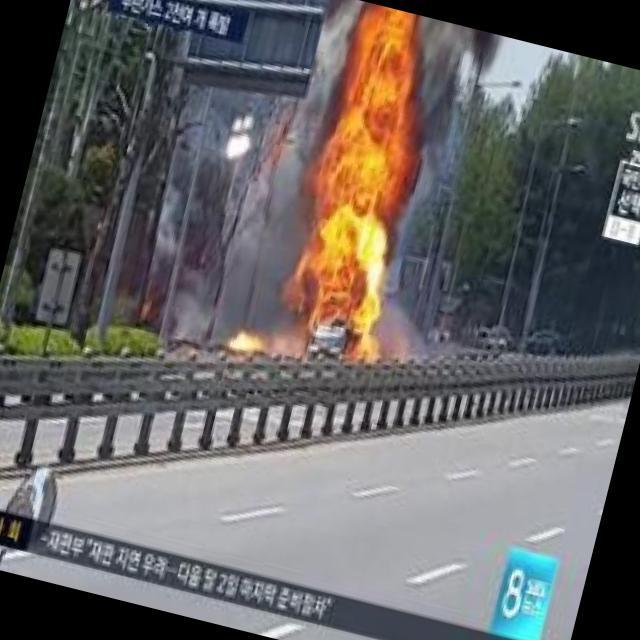Fire: (290, 53, 435, 346), (230, 330, 270, 357)
